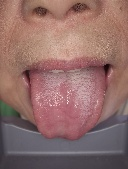tongue: (26, 74, 108, 140)
